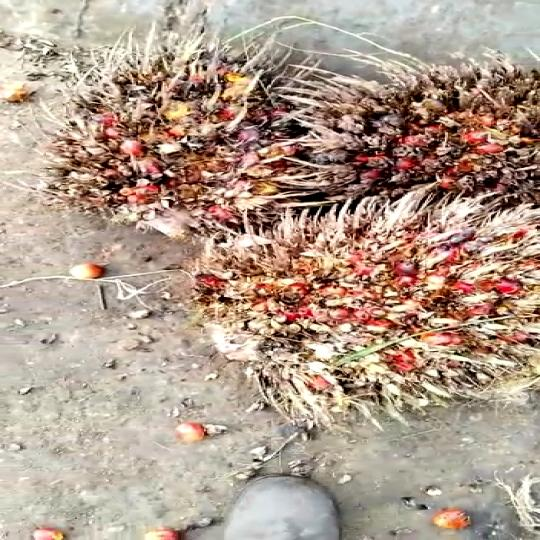terlalu masak: (179, 205, 540, 413), (16, 37, 321, 244)
